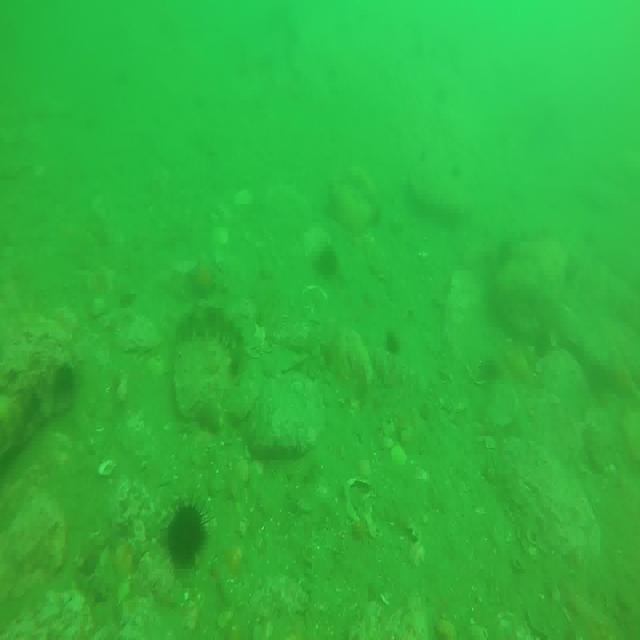echinus: (168, 502, 208, 570), (54, 360, 76, 406), (483, 356, 506, 391), (320, 244, 337, 277), (386, 328, 400, 359)
holothurian: (178, 303, 245, 367)
scallop: (98, 459, 117, 480)
starfish: (189, 257, 219, 301)
